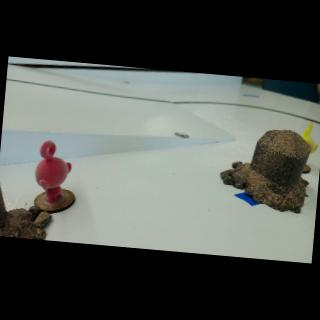teletubby: (35, 141, 71, 203), (301, 122, 318, 154)
